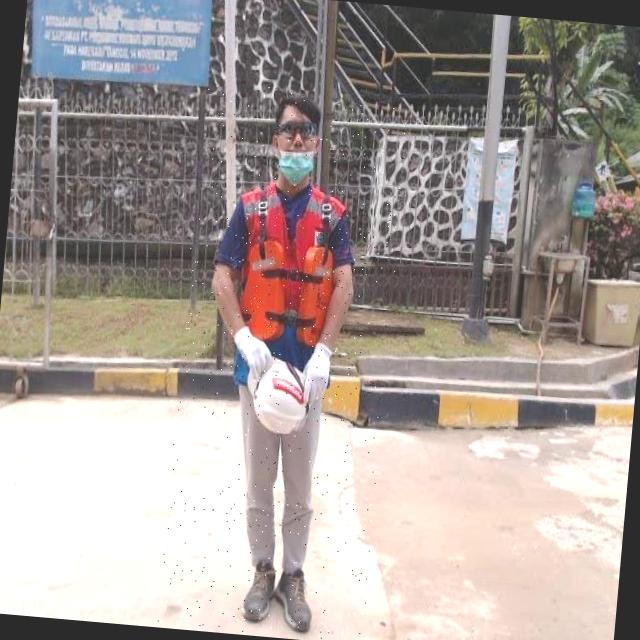boots: (273, 570, 316, 636), (242, 558, 279, 625)
gloves: (221, 322, 278, 383), (306, 340, 338, 391)
helmet: (237, 352, 326, 438)
no-helmet: (262, 92, 326, 182)
vest: (222, 178, 350, 390)
